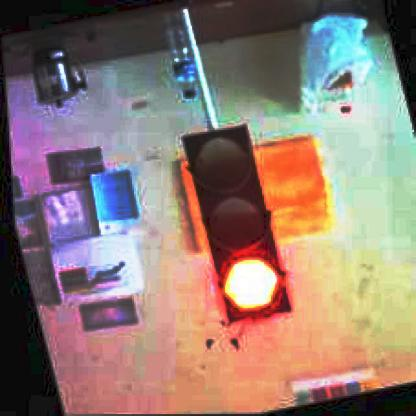Traffic Light -Red-: (178, 123, 292, 324)
